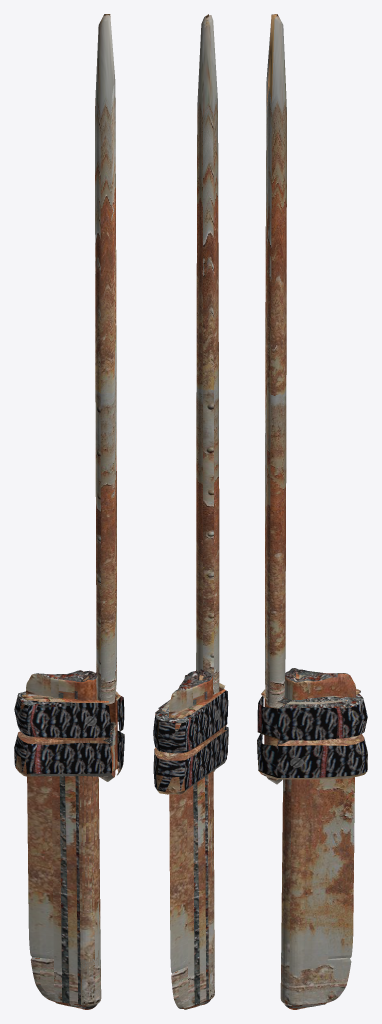
File: kaspear.fbx
3 renders of one model, left to right at view 1: azimuth 90°, elevation 25°; view 2: azimuth 150°, elevation 25°; view 3: azimuth 270°, elevation 25°, orthographic.
Parts seen in each view (by area): view 1: Cone; view 2: Cone; view 3: Cone.
Boxes of the visible parts, x1,y1,x2,y2 form: Cone: (14, 14, 124, 1009); Cone: (153, 14, 228, 1009); Cone: (257, 14, 367, 1009).
Size of the model in its own units: 0.0259 by 0.667 by 0.0673.
